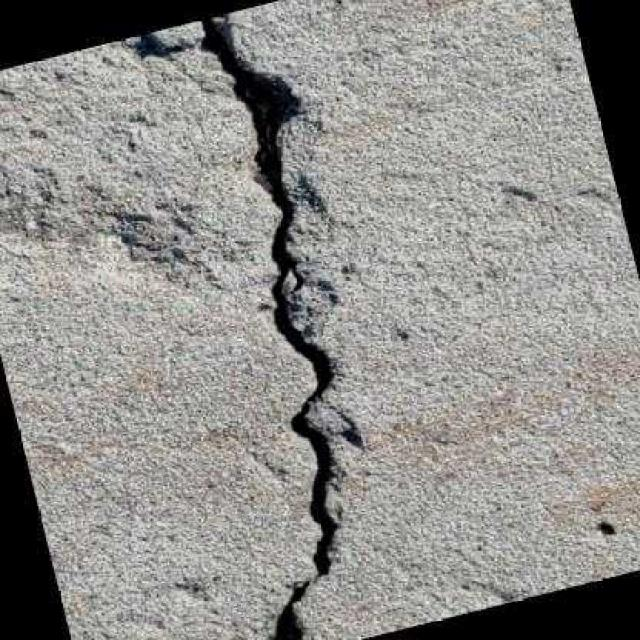D00: (188, 15, 345, 640)
